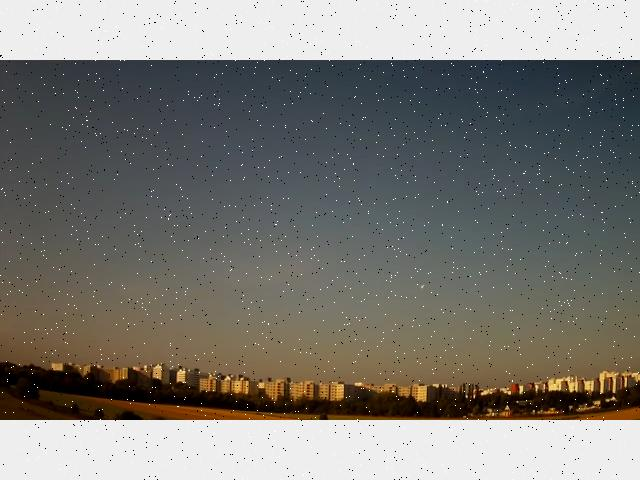Anti-Drone: (409, 277, 435, 295)
